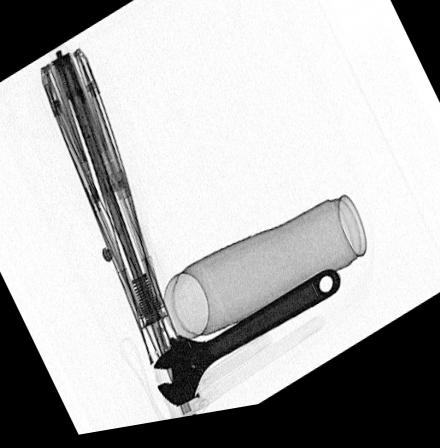Wrench: (153, 276, 345, 413)
